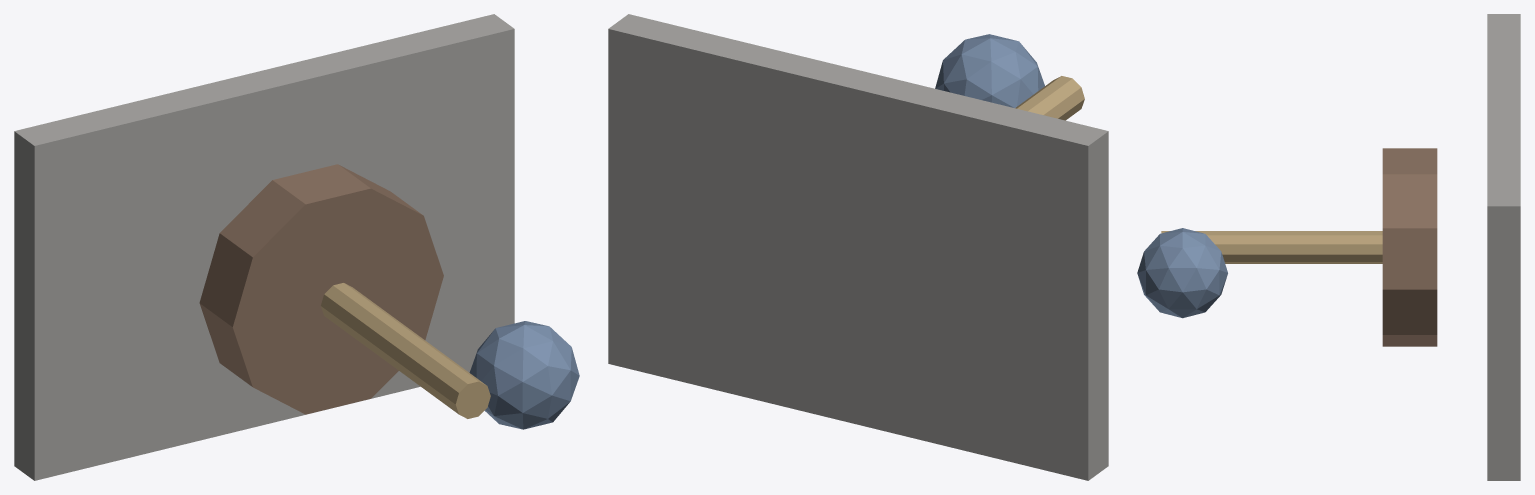
3 views of the same model, side by side, from view 1: azimuth 30°, elevation 25°; view 2: azimuth 150°, elevation 25°; view 3: azimuth 270°, elevation 25° (orthographic). The views are drawn at different scales.
Visible parts, largest first — view 1: H20_part_0, H20_part_1, H20_part_3, H20_part_2; view 2: H20_part_0, H20_part_3, H20_part_2; view 3: H20_part_0, H20_part_1, H20_part_3, H20_part_2.
Boxes of the visible parts, <box> form: H20_part_0: <box>14,14,514,480</box>; H20_part_1: <box>199,164,443,414</box>; H20_part_3: <box>469,321,579,429</box>; H20_part_2: <box>321,283,490,418</box>; H20_part_0: <box>608,14,1108,480</box>; H20_part_3: <box>935,34,1044,107</box>; H20_part_2: <box>1015,76,1084,120</box>; H20_part_0: <box>1487,14,1520,480</box>; H20_part_1: <box>1382,148,1437,346</box>; H20_part_3: <box>1137,228,1227,318</box>; H20_part_2: <box>1161,231,1382,263</box>.
Size of the model in its own units: 1.5 by 1 by 1.26.
